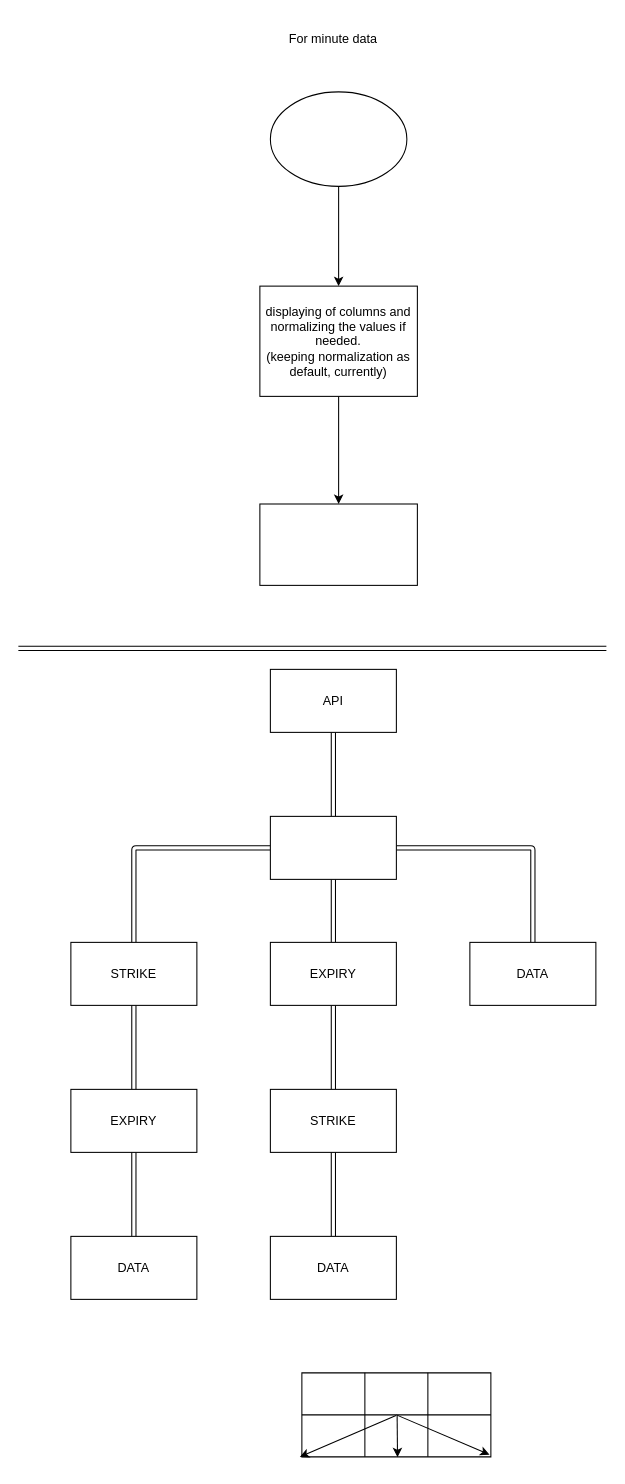
Image size: 625x1484. Some labels were removed from this diagram. The centre of each missing label's shape, as x and y in pixels:
display of performed data in numerical form and then in chart form: point 338,544
MONGO URI: point 332,847
raw data > processed data: point 338,138
